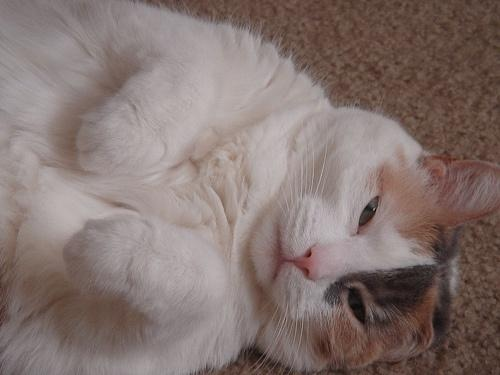cat: (2, 1, 500, 374)
